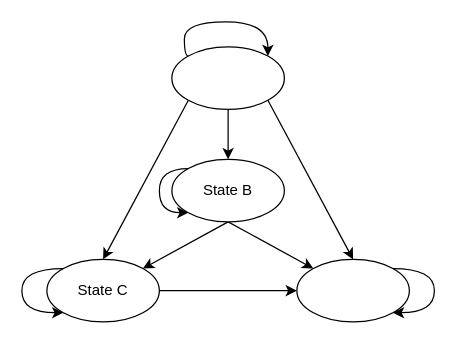
Image size: 456x344. Some labels were removed from this diagram. Each missing label, with the centre of its shape:
"Death" belongs at (352,290).
"State A" belongs at (227,77).
